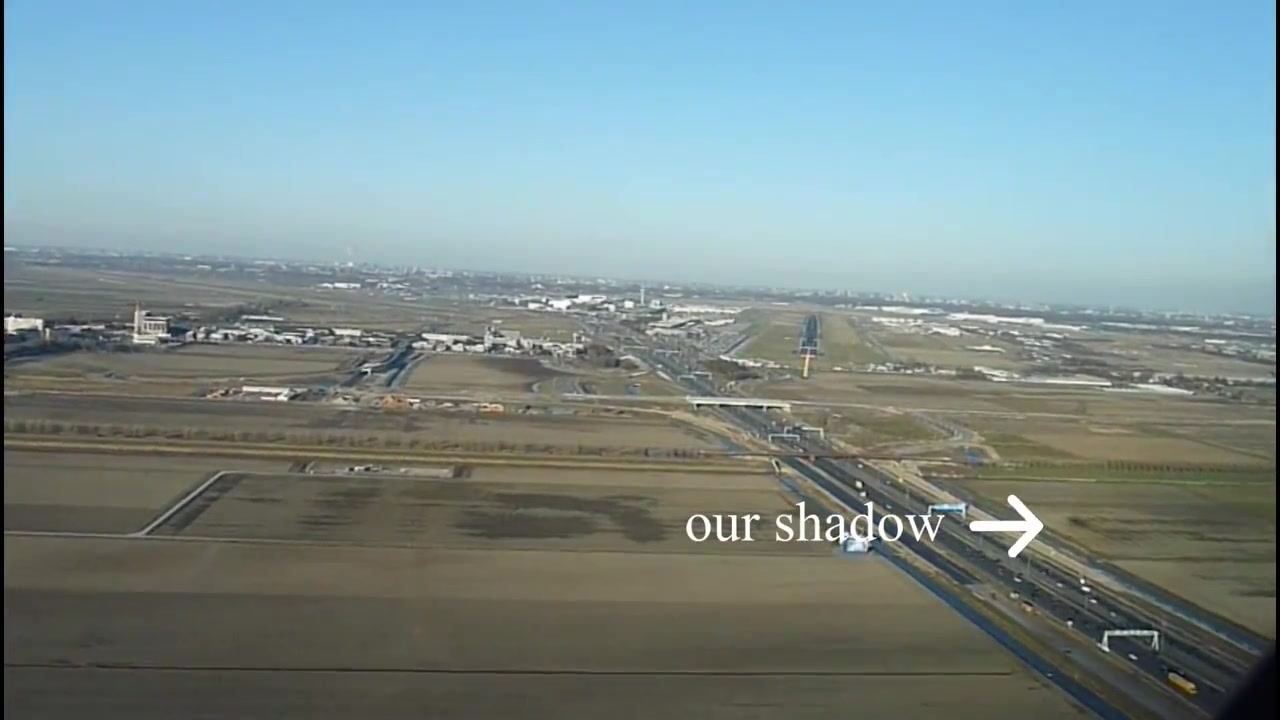runway: (794, 315, 821, 358)
